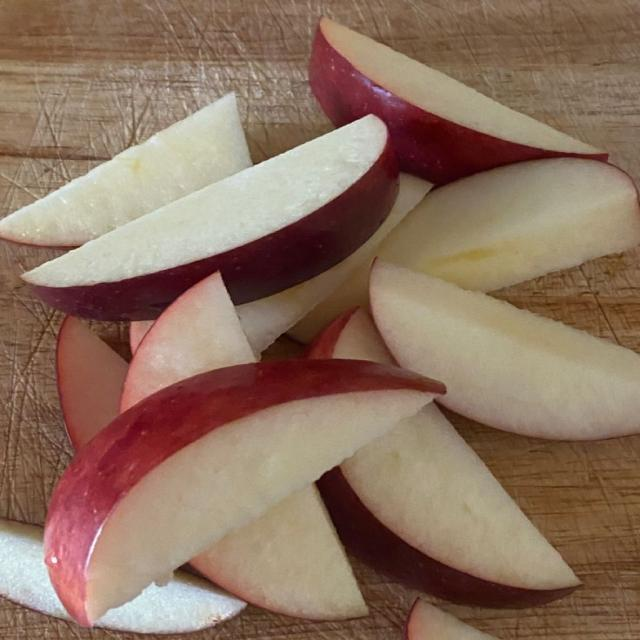apple: (45, 360, 445, 624), (23, 116, 398, 320), (319, 405, 579, 607), (309, 18, 607, 183), (370, 261, 639, 439), (0, 94, 251, 246), (237, 174, 431, 352), (378, 158, 639, 290), (190, 485, 367, 620), (191, 485, 366, 619), (120, 273, 255, 411), (133, 277, 251, 384), (96, 571, 245, 634), (57, 316, 127, 450), (405, 599, 495, 639), (129, 320, 153, 354)
